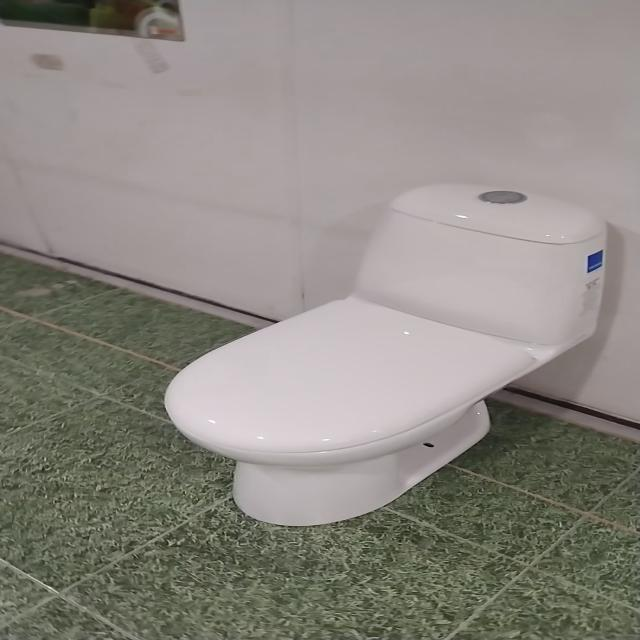toilet: (162, 182, 608, 527)
